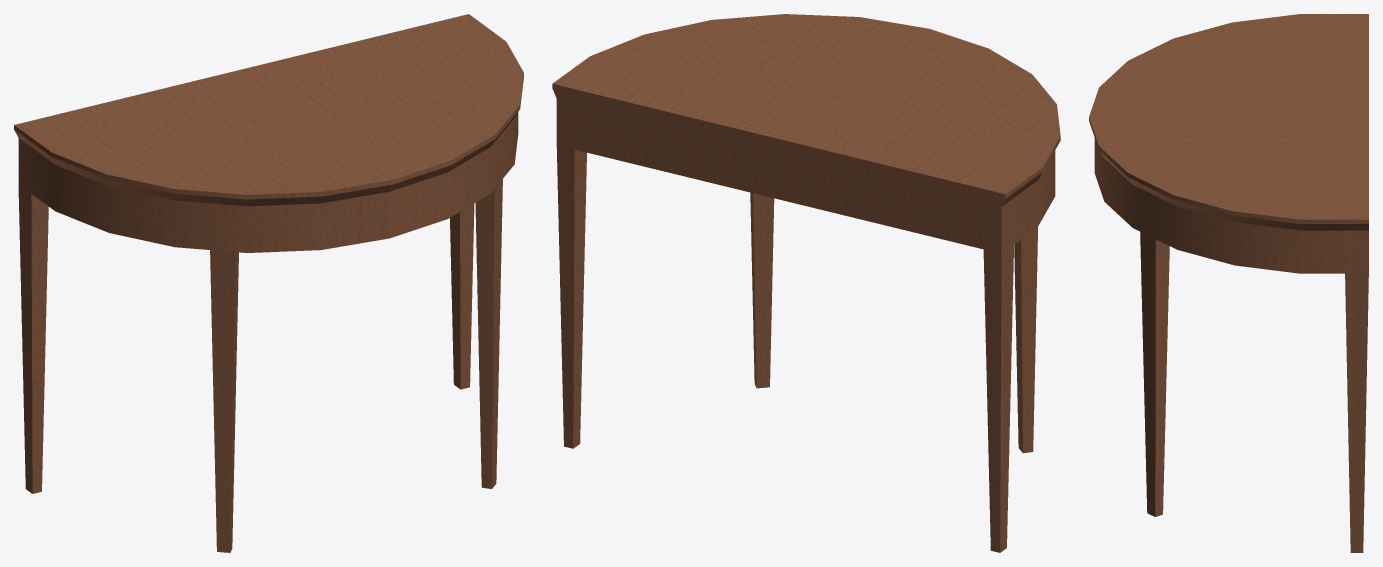
Rendered from table_half_round.obj.
3 views of the same model, side by side, from view 1: azimuth 30°, elevation 25°; view 2: azimuth 150°, elevation 25°; view 3: azimuth 270°, elevation 25° (orthographic). The views are drawn at different scales.
Parts seen in each view (by area): view 1: 1_1, 6_4, 7_5, 5_3, 4_2; view 2: 1_1, 7_5, 4_2, 6_4, 5_3; view 3: 1_1, 5_3, 4_2.
Boxes of the visible parts, <box> form: 1_1: <box>14,14,523,252</box>; 6_4: <box>210,203,238,552</box>; 7_5: <box>18,138,48,493</box>; 5_3: <box>475,132,502,488</box>; 4_2: <box>450,203,474,389</box>; 1_1: <box>552,14,1060,253</box>; 7_5: <box>983,198,1013,552</box>; 4_2: <box>556,99,586,448</box>; 6_4: <box>1014,227,1037,453</box>; 5_3: <box>750,192,774,388</box>; 1_1: <box>1089,14,1368,273</box>; 5_3: <box>1140,189,1169,516</box>; 4_2: <box>1345,230,1368,552</box>.
Bounding box in the file's own units: 102 × 78 × 58.65.
Materials: 1 (1 with a texture image).
